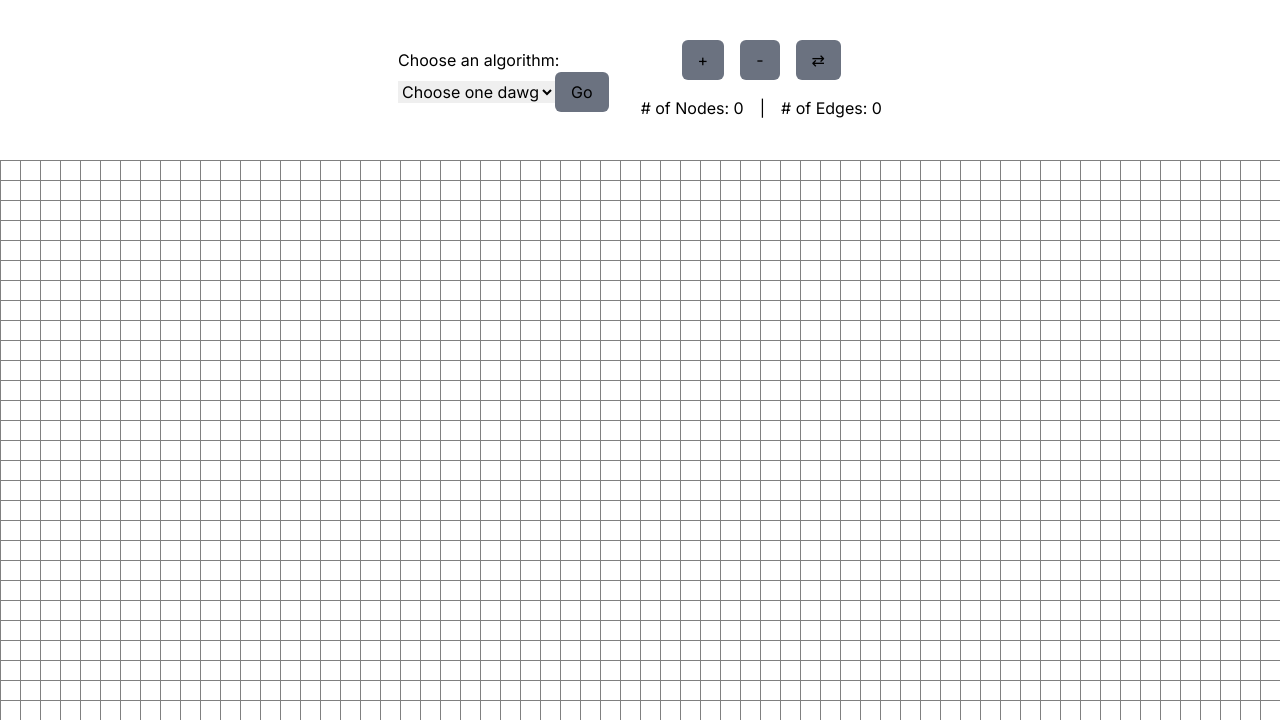
Test case: Home Component › removes a node when the remove button is clicked
Click the button "+" at (703, 60), box x1=682 y1=40 x2=724 y2=80
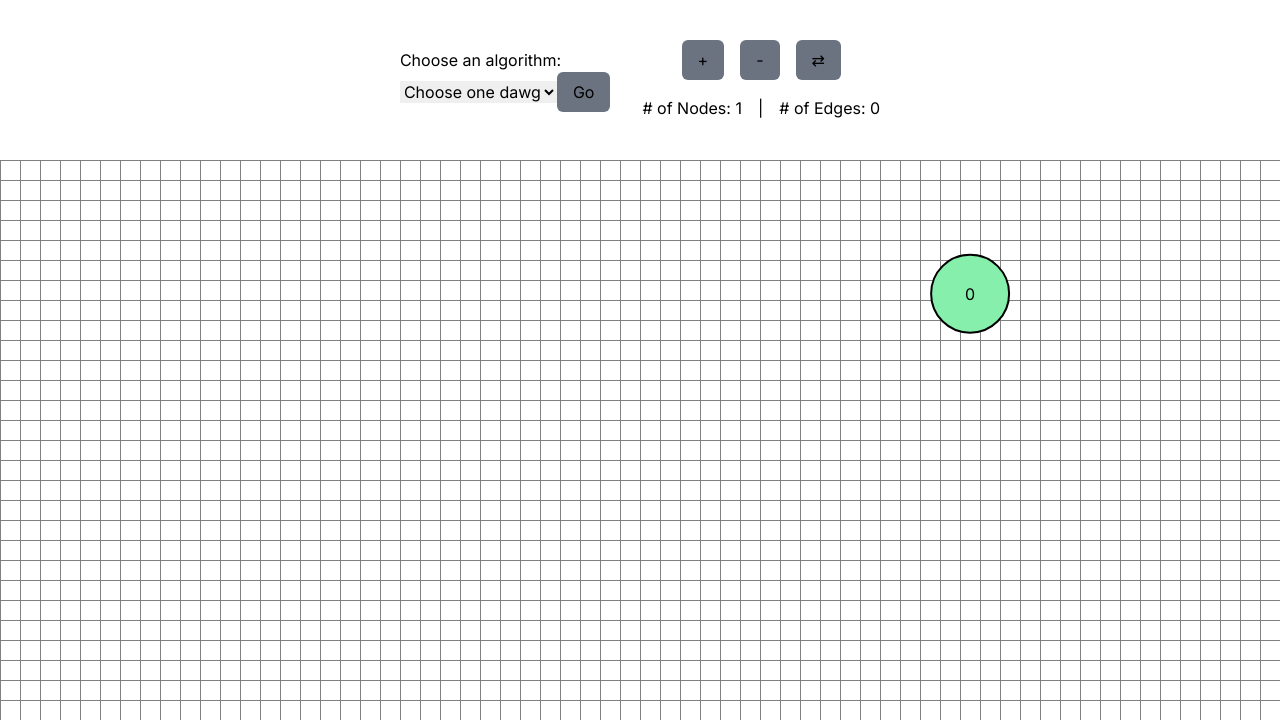
Click the button "-" at (760, 60), box x1=740 y1=40 x2=780 y2=80
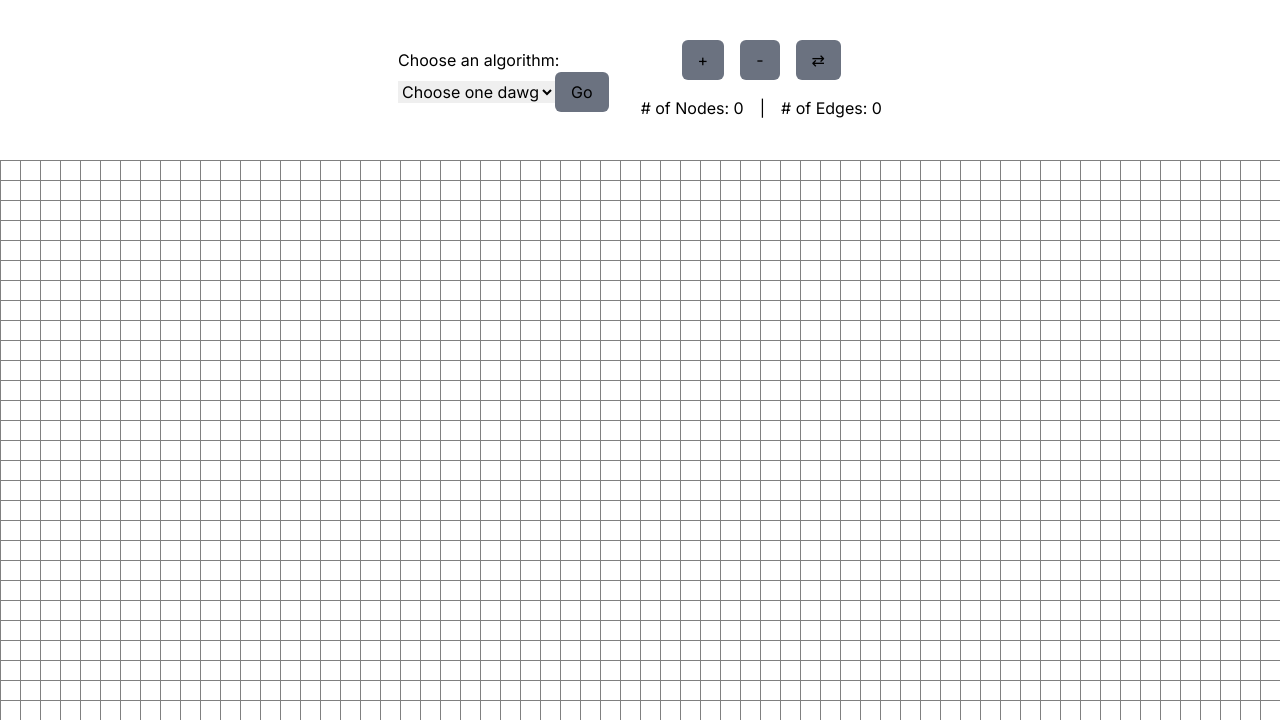
Check: the heading "# of Nodes: 0" is shown, box x1=641 y1=96 x2=744 y2=120
